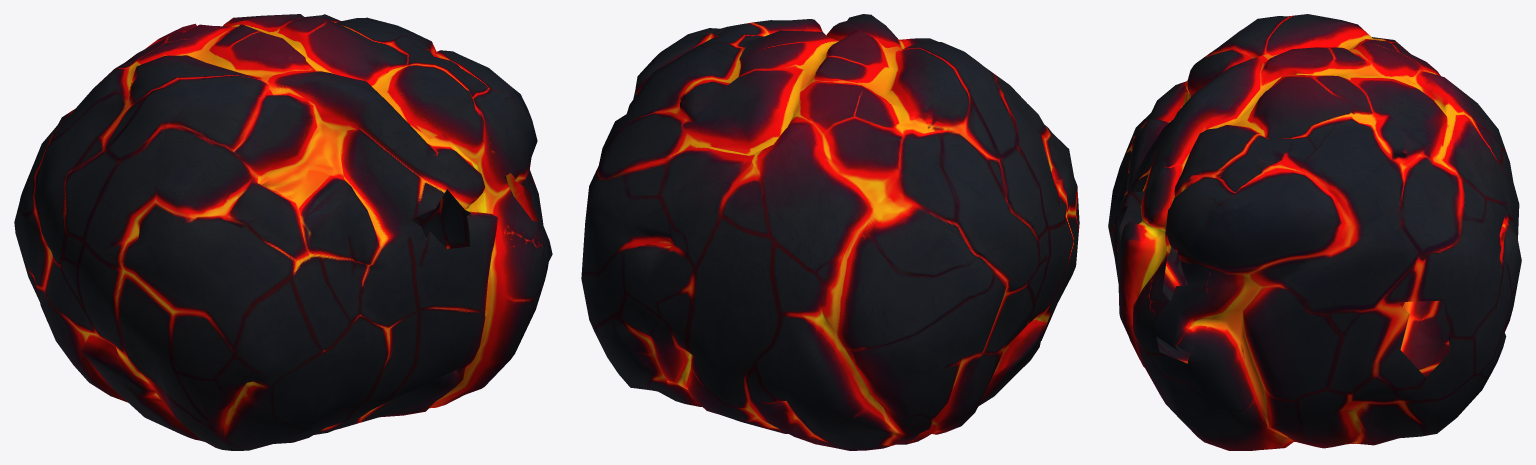
Rendered from z1_boulder.glb.
The picture shows the model from 3 angles, left to right: view 1: azimuth 30°, elevation 25°; view 2: azimuth 150°, elevation 25°; view 3: azimuth 270°, elevation 25°; orthographic projection. The views are drawn at different scales.
Size of the model in its own units: 1.9 by 1.59 by 1.73.
Materials: 1 (1 with a texture image).
